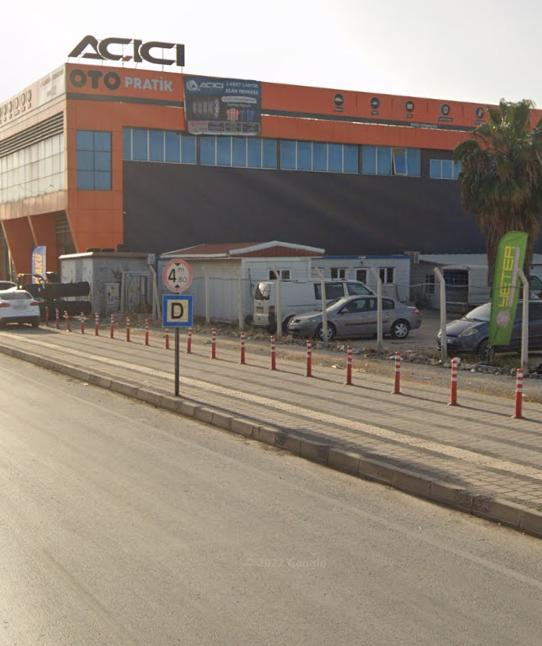station: (169, 301, 189, 323)
